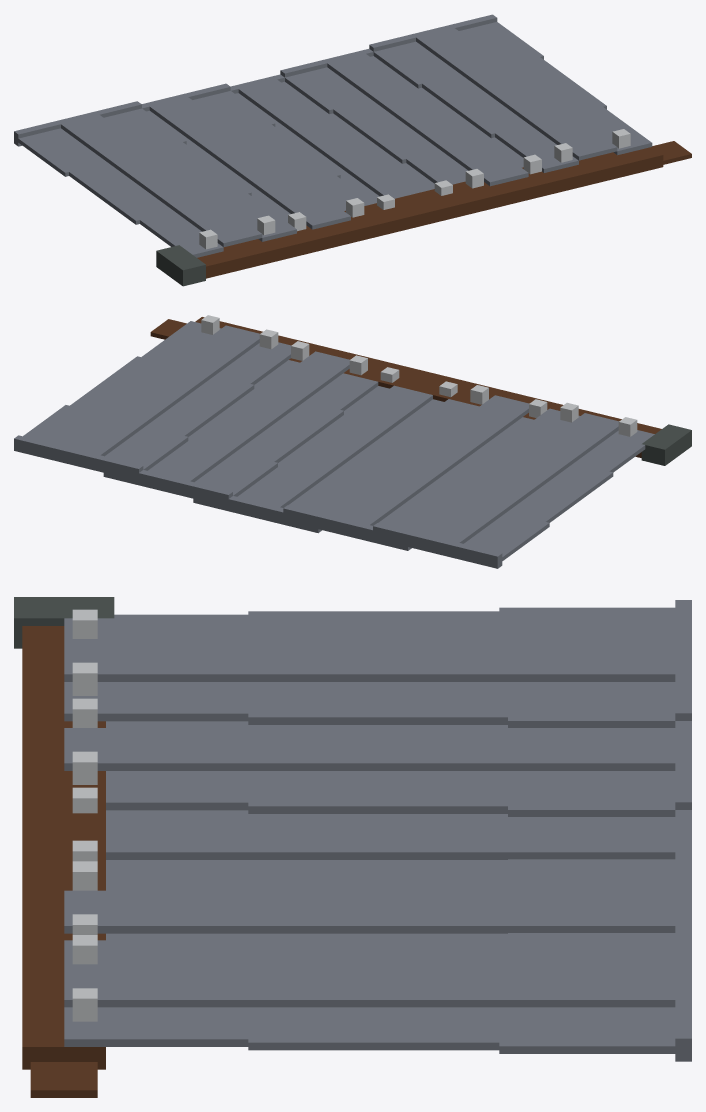
Rendered from ch_legguard_metal_sheets_hip.glb.
The picture shows the model from 3 angles, top to bottom: view 1: azimuth 30°, elevation 25°; view 2: azimuth 150°, elevation 25°; view 3: azimuth 270°, elevation 25°; orthographic projection. The views are drawn at different scales.
Visible parts, largest first — view 1: ch_legguard_metal_sheets_hip:compound; view 2: ch_legguard_metal_sheets_hip:compound; view 3: ch_legguard_metal_sheets_hip:compound.
Part boxes in pixels (x1,y1,x2,y2): ch_legguard_metal_sheets_hip:compound: (14,14,691,286); ch_legguard_metal_sheets_hip:compound: (14,315,691,568); ch_legguard_metal_sheets_hip:compound: (14,597,691,1097).
Bounding box in the file's own units: 0.532 × 0.028 × 0.324.
